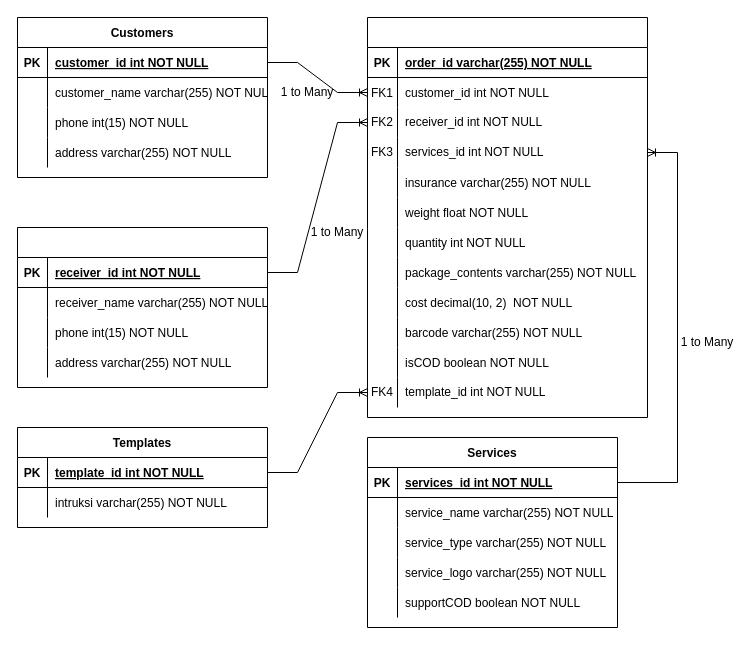
The diagram is 755 pixels wide and 645 high, and some of its shapes have lost their labels. The box of each missing label's shape, as (x1, y1, x2, y2) in pixels:
Orders: (366, 16, 648, 418)
Receivers: (16, 226, 268, 388)
